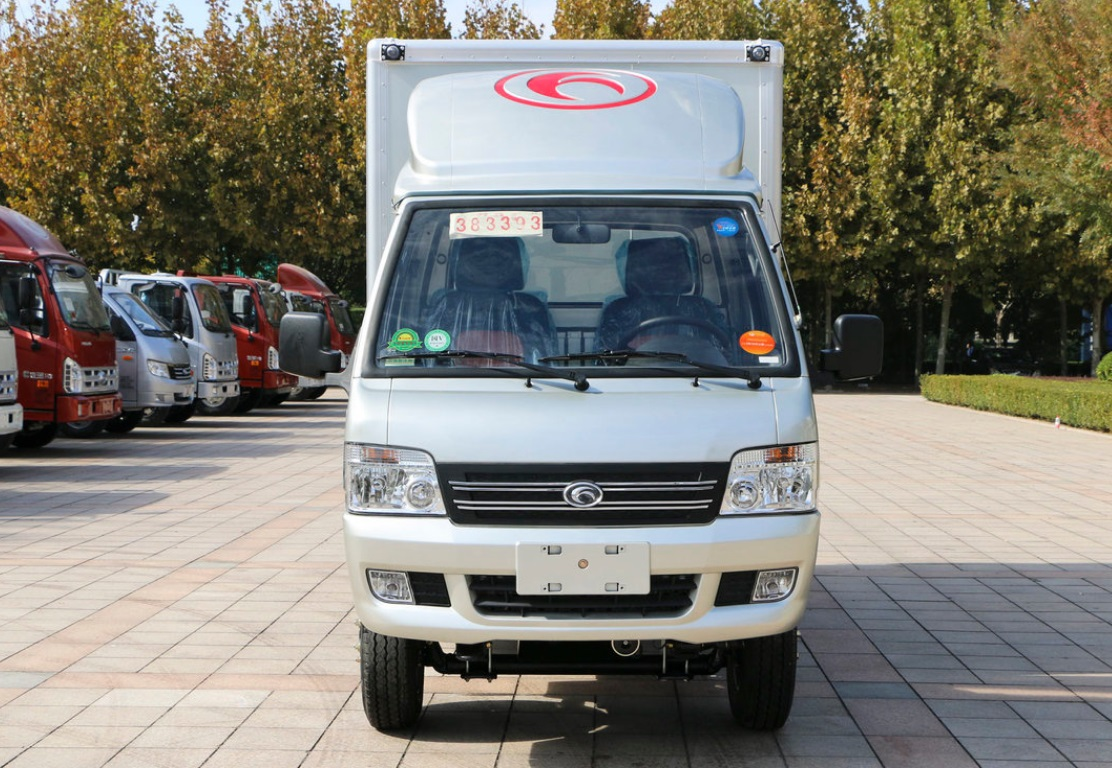truck: (275, 28, 888, 752)
